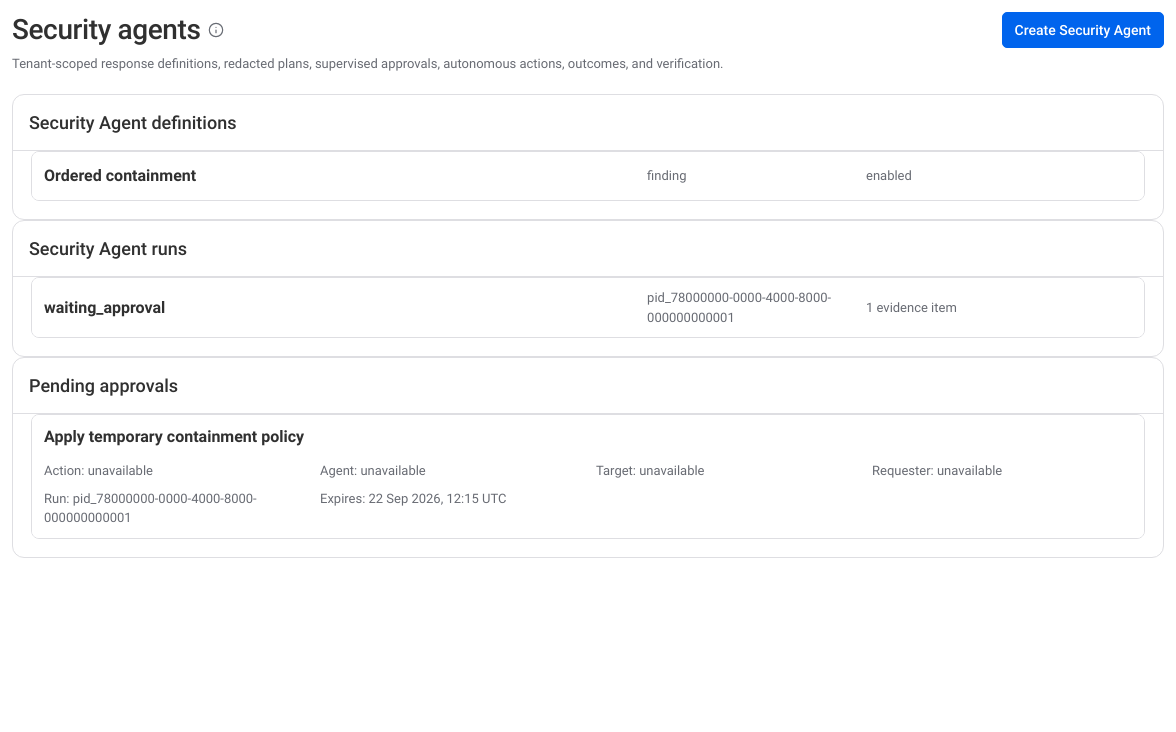
Test: ordered run drawer › refuses private ordered JSON without presenting success
This screenshot has width=1176, height=732.
Click the button with aria-label "Open run pid_78000000-0000-4000-8000-000000000001" at coordinates (105, 307), box [32,278,1144,337]
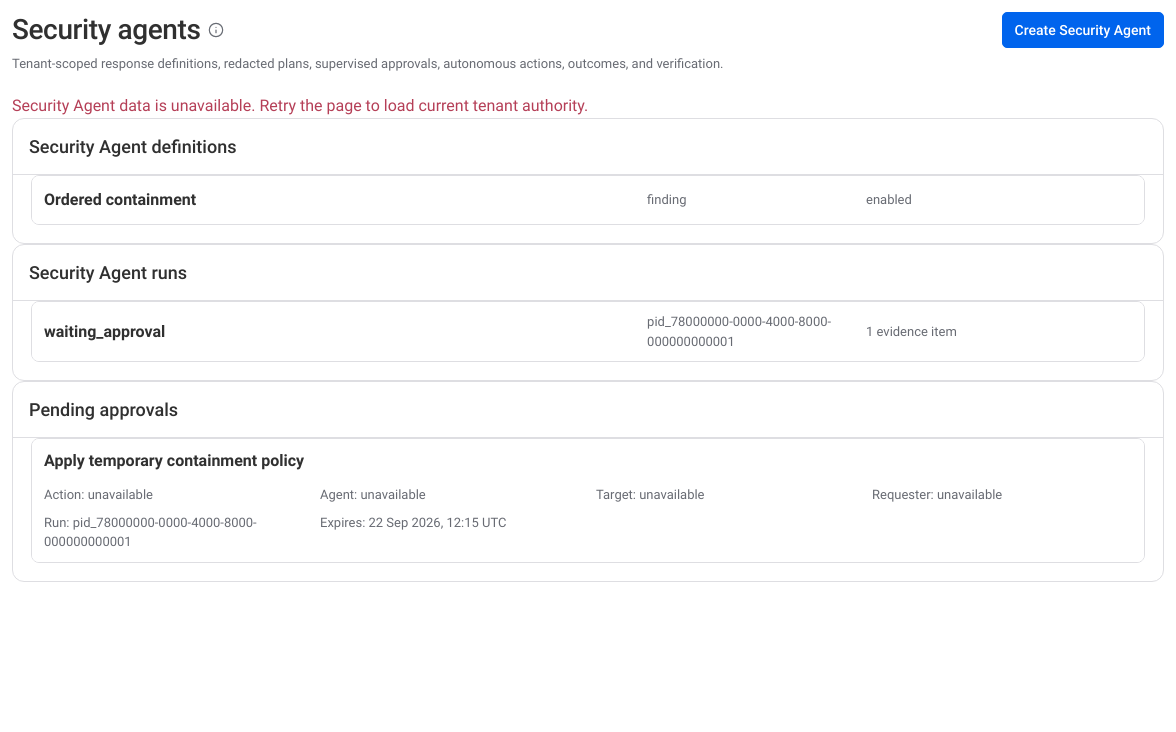
Check: the message is shown, box [12,96,588,115]
